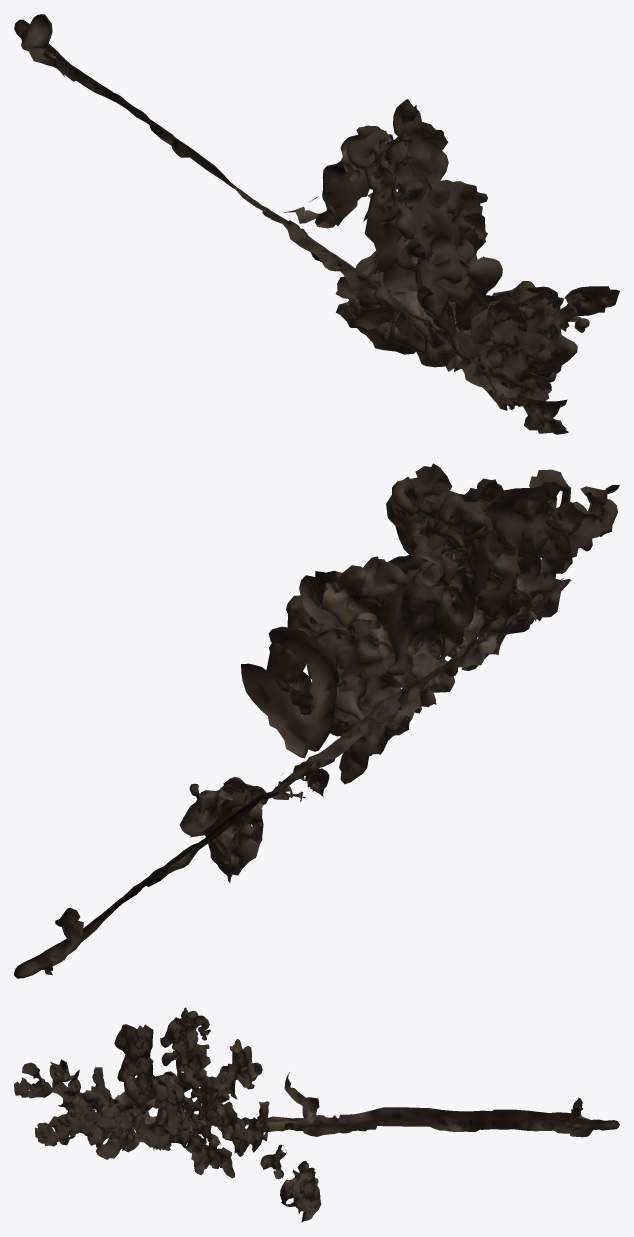
File: tree_mesh.dae
The picture shows the model from 3 angles, top to bottom: view 1: azimuth 30°, elevation 25°; view 2: azimuth 150°, elevation 25°; view 3: azimuth 270°, elevation 25°; orthographic projection. The views are drawn at different scales.
Visible parts, largest first — view 1: node0; view 2: node0; view 3: node0.
Part boxes in pixels (box(x1,y1,x2,y2)): node0: box(14, 14, 619, 434); node0: box(14, 463, 619, 978); node0: box(14, 1007, 619, 1222).
Bounding box in the file's own units: 4.78 × 8.15 × 23.73.
